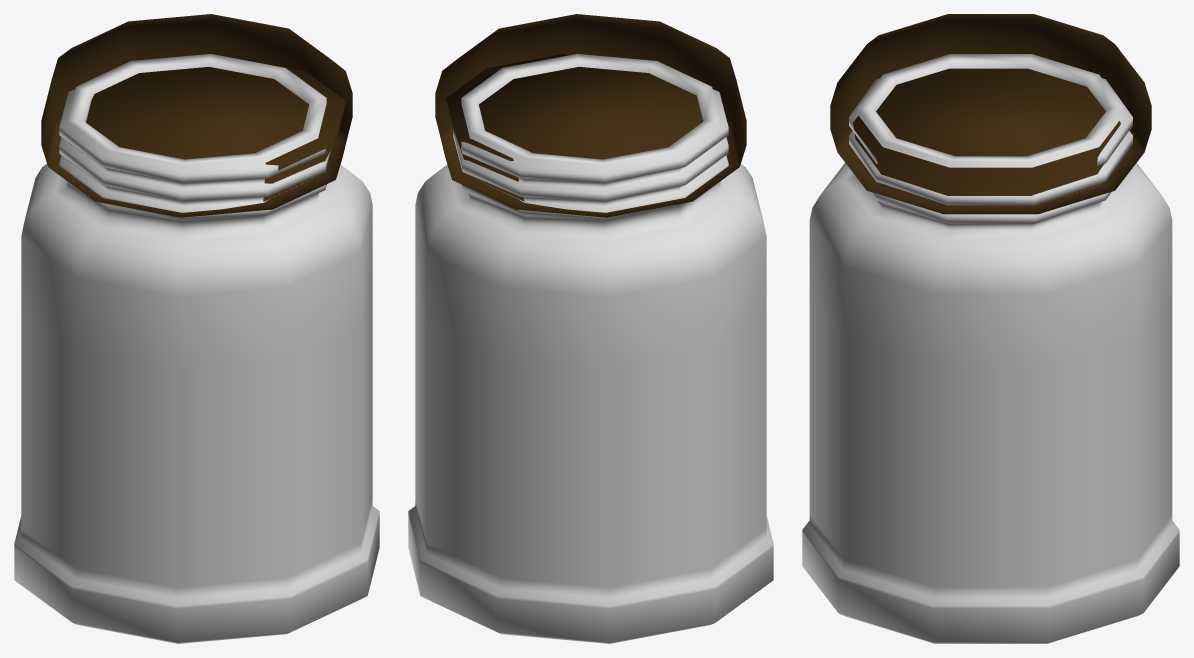
Rendered from bocal_atome.glb.
3 renders of one model, left to right at view 1: azimuth 30°, elevation 25°; view 2: azimuth 150°, elevation 25°; view 3: azimuth 270°, elevation 25°, orthographic.
Parts seen in each view (by area): view 1: Circle.007, Circle.006; view 2: Circle.007, Circle.006; view 3: Circle.007, Circle.006.
Part boxes in pixels (x1,y1,x2,y2): Circle.007: (14,54,379,643); Circle.006: (41,14,352,217); Circle.007: (408,54,773,643); Circle.006: (435,14,746,217); Circle.007: (802,54,1179,643); Circle.006: (830,14,1151,214).
Size of the model in its own units: 0.3704 by 0.5711 by 0.3894.
